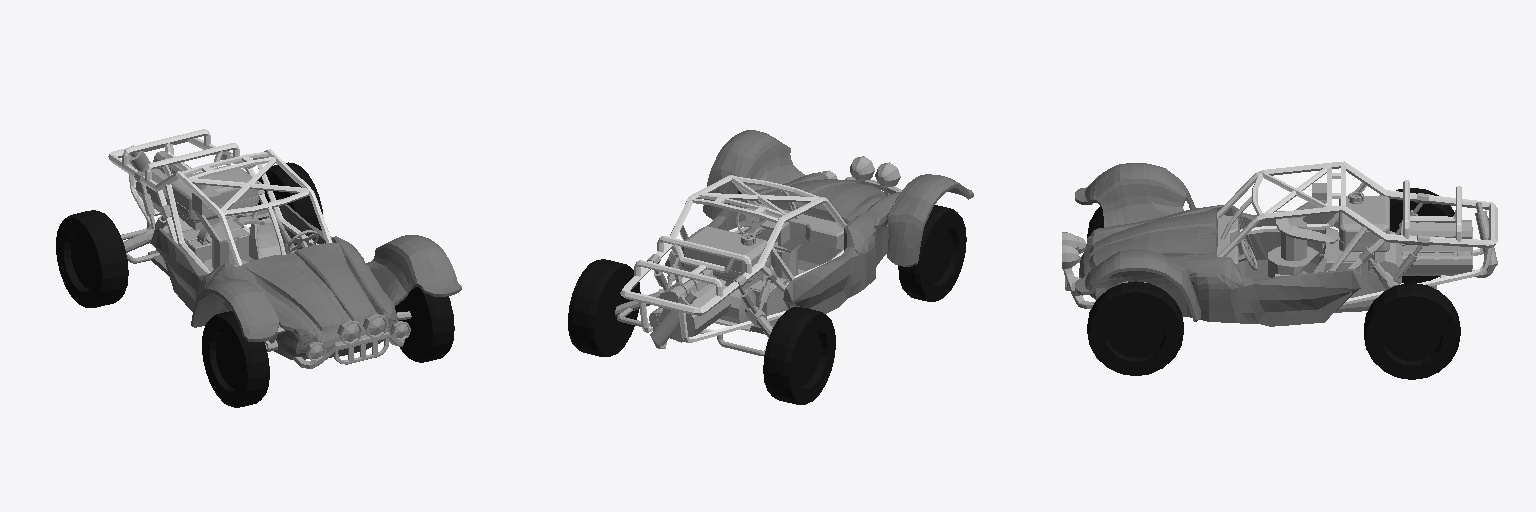
Rendered from HPBuggy.obj.
The picture shows the model from 3 angles: view 1: azimuth 30°, elevation 25°; view 2: azimuth 150°, elevation 25°; view 3: azimuth 270°, elevation 25°; orthographic projection.
Visible parts, largest first — view 1: Hood_Shell Buggy_Geo, Buggy_Geo Tires, Buggy_Geo Roll_Cage, Buggy_Geo Accesories_Grp Engine_and_Gas_Tank, Buggy_Geo Accesories_Grp Bumper, Buggy_Geo Accesories_Grp Weapon_Mount_and_Ammo_Can, Buggy_Geo Accesories_Grp Supension, Buggy_Geo Accesories_Grp Drivers_Seat; view 2: Hood_Shell Buggy_Geo, Buggy_Geo Tires, Buggy_Geo Roll_Cage, Buggy_Geo Accesories_Grp Engine_and_Gas_Tank, Buggy_Geo Accesories_Grp Supension, Buggy_Geo Accesories_Grp Weapon_Mount_and_Ammo_Can, Buggy_Geo Steering_Wheel Accesories_Grp, Buggy_Geo Accesories_Grp Bumper; view 3: Hood_Shell Buggy_Geo, Buggy_Geo Tires, Buggy_Geo Roll_Cage, Buggy_Geo Accesories_Grp Engine_and_Gas_Tank, Buggy_Geo Accesories_Grp Weapon_Mount_and_Ammo_Can, Buggy_Geo Accesories_Grp Supension, Buggy_Geo Accesories_Grp Bumper, Buggy_Geo Steering_Wheel Accesories_Grp.
Boxes of the visible parts, <box> form: Hood_Shell Buggy_Geo: <box>148,199,461,359</box>; Buggy_Geo Tires: <box>56,162,454,407</box>; Buggy_Geo Roll_Cage: <box>108,129,332,273</box>; Buggy_Geo Accesories_Grp Engine_and_Gas_Tank: <box>129,145,258,230</box>; Buggy_Geo Accesories_Grp Bumper: <box>293,313,410,368</box>; Buggy_Geo Accesories_Grp Weapon_Mount_and_Ammo_Can: <box>182,188,264,271</box>; Buggy_Geo Accesories_Grp Supension: <box>121,151,411,351</box>; Buggy_Geo Accesories_Grp Drivers_Seat: <box>249,209,296,259</box>; Hood_Shell Buggy_Geo: <box>665,130,973,334</box>; Buggy_Geo Tires: <box>568,190,966,404</box>; Buggy_Geo Roll_Cage: <box>620,175,846,342</box>; Buggy_Geo Accesories_Grp Engine_and_Gas_Tank: <box>649,226,770,348</box>; Buggy_Geo Accesories_Grp Supension: <box>615,225,887,355</box>; Buggy_Geo Accesories_Grp Weapon_Mount_and_Ammo_Can: <box>714,218,804,315</box>; Buggy_Geo Steering_Wheel Accesories_Grp: <box>736,203,843,249</box>; Buggy_Geo Accesories_Grp Bumper: <box>822,156,901,195</box>; Hood_Shell Buggy_Geo: <box>1075,163,1377,326</box>; Buggy_Geo Tires: <box>1087,188,1460,379</box>; Buggy_Geo Roll_Cage: <box>1217,161,1497,304</box>; Buggy_Geo Accesories_Grp Engine_and_Gas_Tank: <box>1339,192,1497,277</box>; Buggy_Geo Accesories_Grp Weapon_Mount_and_Ammo_Can: <box>1268,183,1360,277</box>; Buggy_Geo Accesories_Grp Supension: <box>1118,193,1436,291</box>; Buggy_Geo Accesories_Grp Bumper: <box>1062,232,1095,308</box>; Buggy_Geo Steering_Wheel Accesories_Grp: <box>1217,215,1257,270</box>.
Bounding box in the file's own units: 8.42 × 5.2 × 14.34.